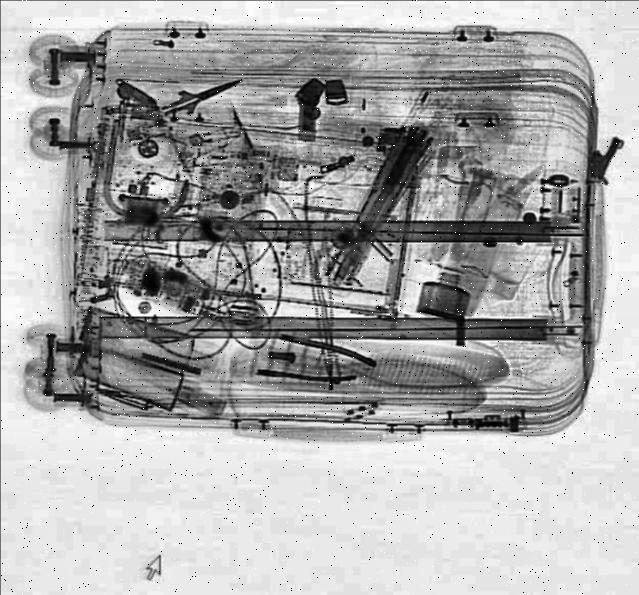Knife: (160, 66, 246, 120)
